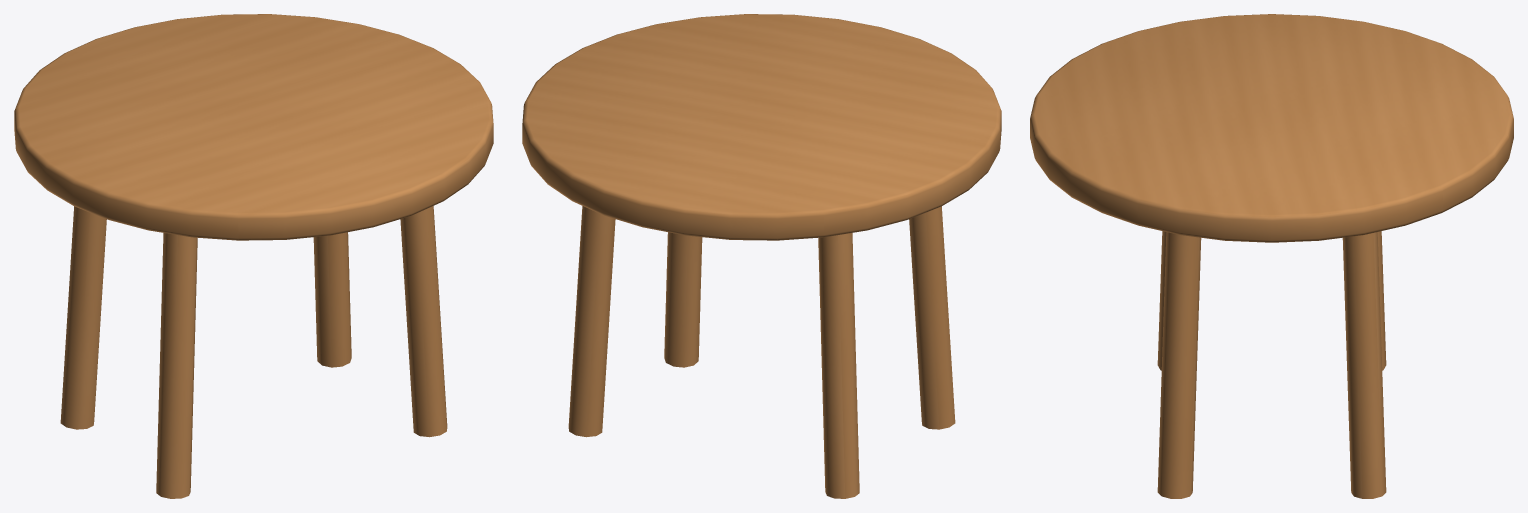
The model's file is Cafe_RoundCafeTable.fbx.
3 renders of one model, left to right at view 1: azimuth 30°, elevation 25°; view 2: azimuth 150°, elevation 25°; view 3: azimuth 270°, elevation 25°, orthographic.
Visible parts, largest first — view 1: IMG2_ENV_Round_Cafe_Table; view 2: IMG2_ENV_Round_Cafe_Table; view 3: IMG2_ENV_Round_Cafe_Table.
Part boxes in pixels (bbox=[...]): IMG2_ENV_Round_Cafe_Table: bbox=[14, 14, 493, 498]; IMG2_ENV_Round_Cafe_Table: bbox=[522, 14, 1001, 498]; IMG2_ENV_Round_Cafe_Table: bbox=[1030, 14, 1513, 498].
Bounding box in the file's own units: 110 × 79.22 × 110.
